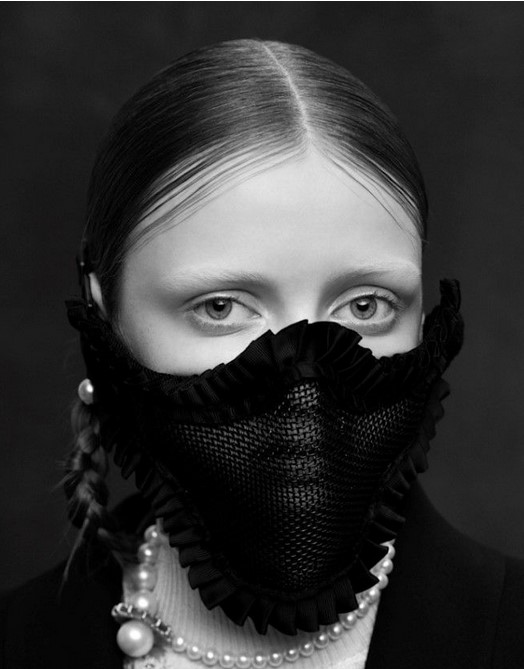face_with_mask: (87, 46, 470, 634)
